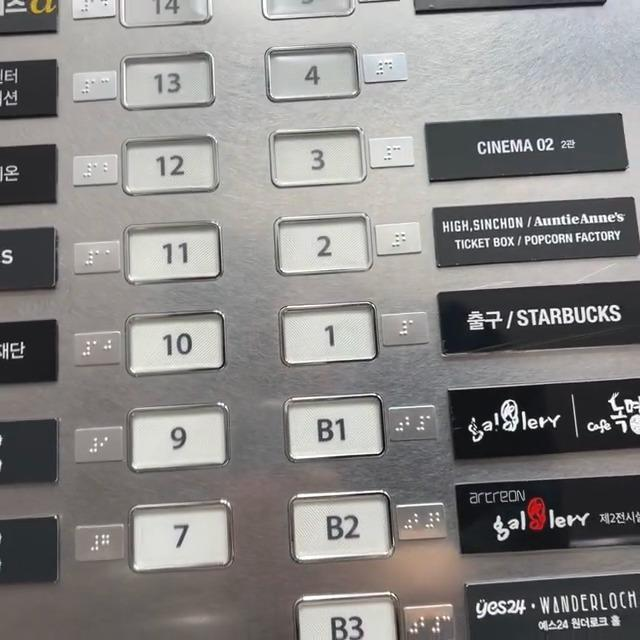button: (127, 502, 240, 574), (289, 492, 396, 564), (124, 221, 226, 289), (282, 302, 382, 369), (126, 408, 232, 471), (283, 399, 385, 464), (273, 214, 378, 277), (126, 312, 229, 374), (120, 53, 222, 110), (273, 129, 365, 192), (266, 48, 368, 103), (123, 138, 220, 194), (291, 599, 406, 640)
